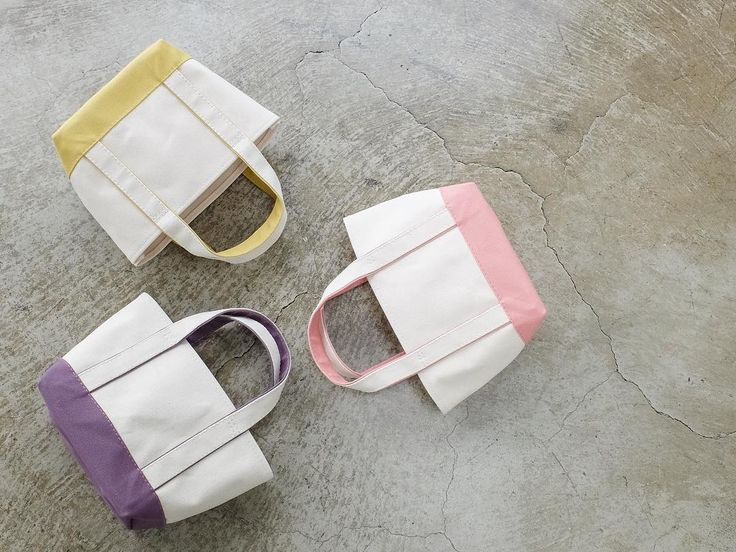nylon: (37, 39, 547, 529)
